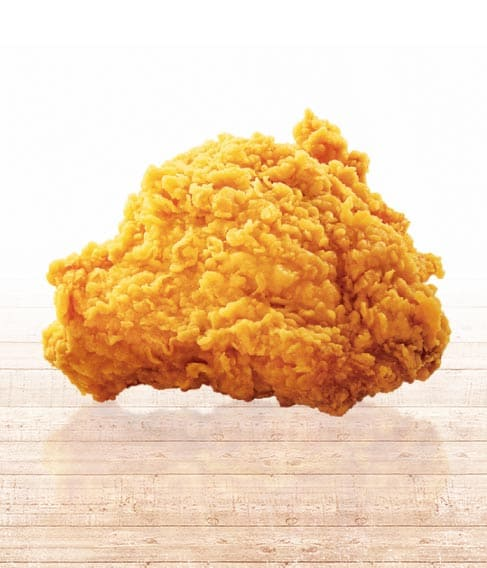fried_chicken: (48, 121, 437, 415)
